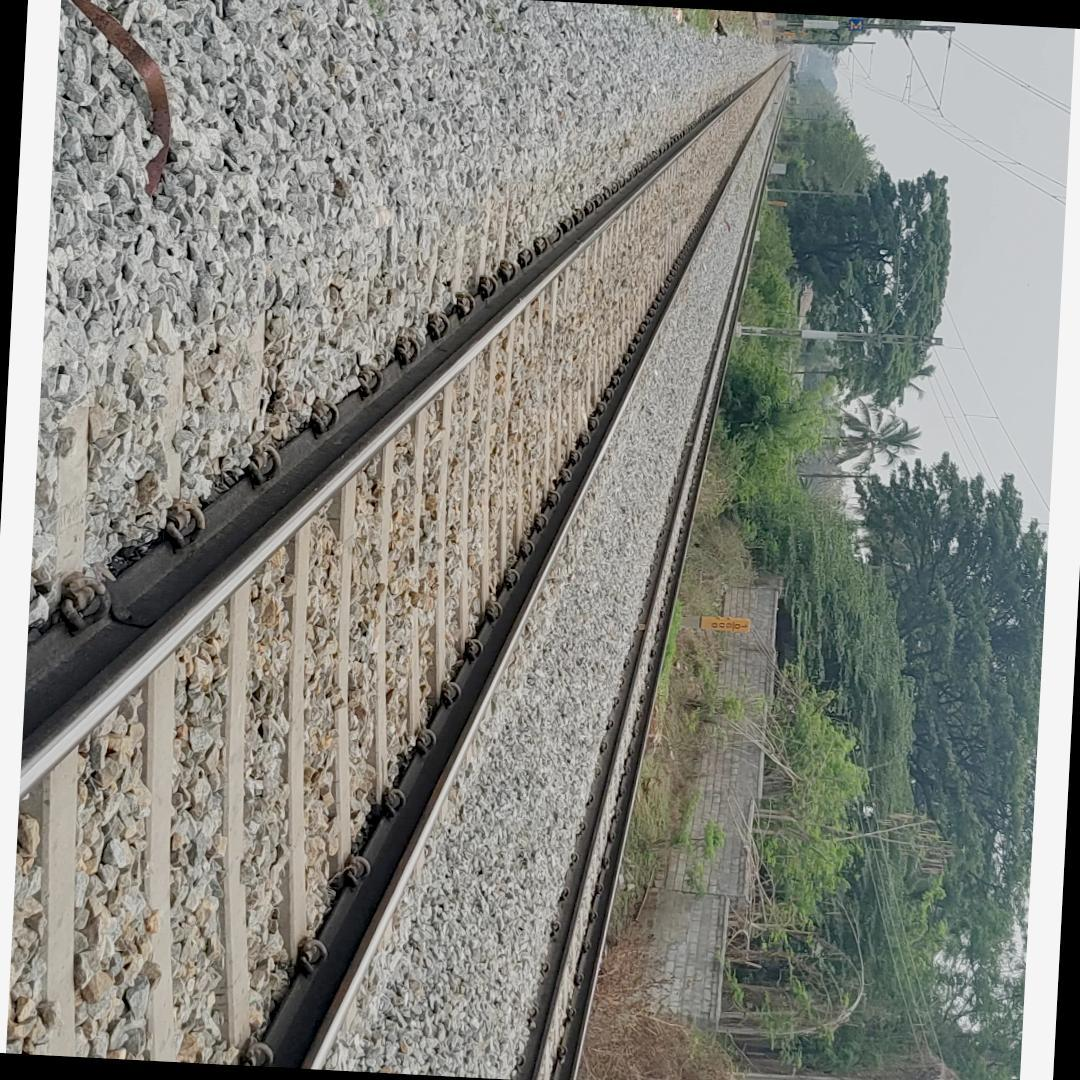track: (5, 40, 795, 1071)
